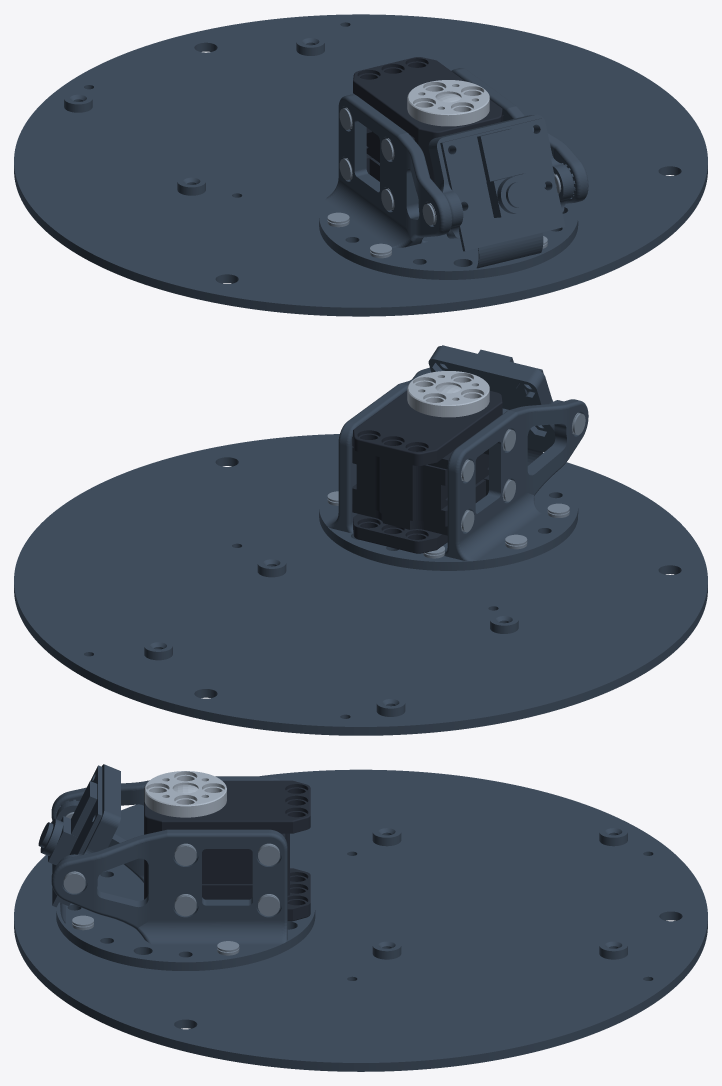
3 renders of one model, top to bottom at view 1: azimuth 30°, elevation 25°; view 2: azimuth 150°, elevation 25°; view 3: azimuth 270°, elevation 25°, orthographic.
Visible parts, largest first — view 1: base_008_disk_support, base_019_base, base_005_PI_CAMERA, base_023_body, base_022_horn, base_004_support_camera; view 2: base_008_disk_support, base_019_base, base_023_body, base_004_support_camera, base_022_horn, base_005_PI_CAMERA; view 3: base_008_disk_support, base_019_base, base_023_body, base_022_horn, base_005_PI_CAMERA, base_004_support_camera.
Boxes of the visible parts, <box> form: base_008_disk_support: <box>14,14,707,316</box>; base_019_base: <box>319,68,588,279</box>; base_005_PI_CAMERA: <box>440,118,565,268</box>; base_023_body: <box>353,57,503,203</box>; base_022_horn: <box>407,80,489,126</box>; base_004_support_camera: <box>428,114,575,238</box>; base_008_disk_support: <box>14,434,707,735</box>; base_019_base: <box>319,367,588,570</box>; base_023_body: <box>352,390,502,553</box>; base_004_support_camera: <box>428,346,563,449</box>; base_022_horn: <box>407,371,489,417</box>; base_005_PI_CAMERA: <box>442,345,547,465</box>; base_008_disk_support: <box>14,769,707,1071</box>; base_019_base: <box>51,776,315,970</box>; base_023_body: <box>144,780,310,921</box>; base_022_horn: <box>144,771,226,817</box>; base_005_PI_CAMERA: <box>38,765,102,923</box>; base_004_support_camera: <box>56,764,120,862</box>.
Bounding box in the file's own units: 0.15 × 0.15 × 0.034.
